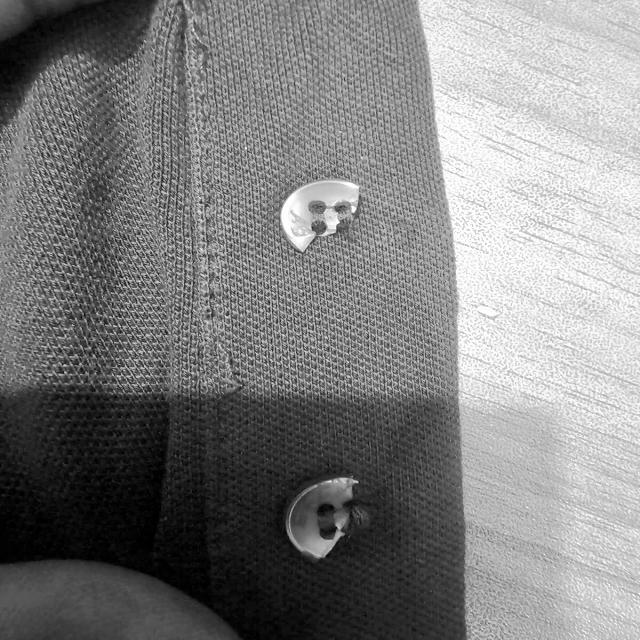Broken_button: (272, 464, 384, 564), (280, 170, 370, 262)
